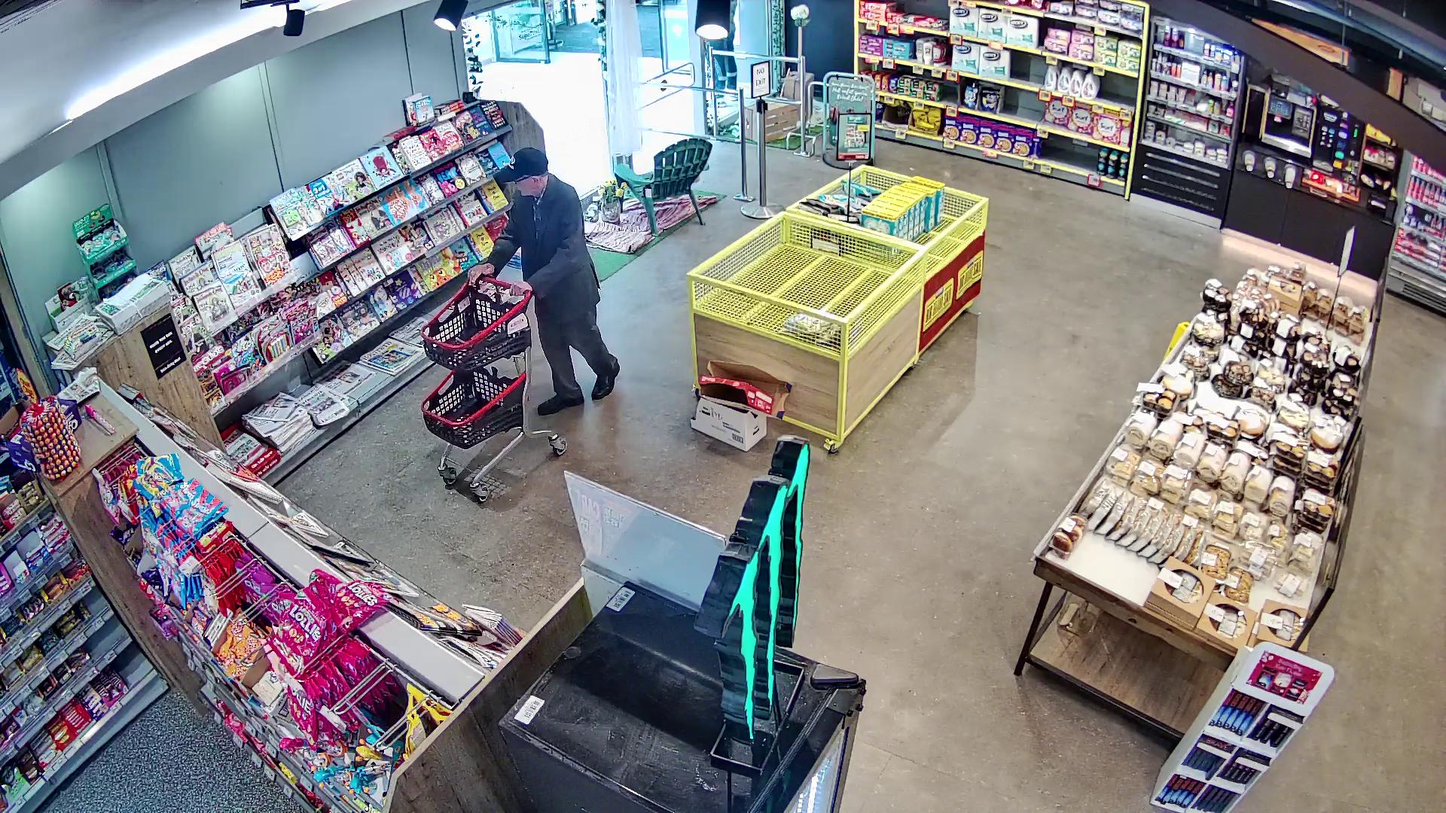empty-trolly: (424, 274, 567, 504)
person: (468, 149, 622, 415)
person-with-empty-basket-trolly: (424, 149, 621, 504)
